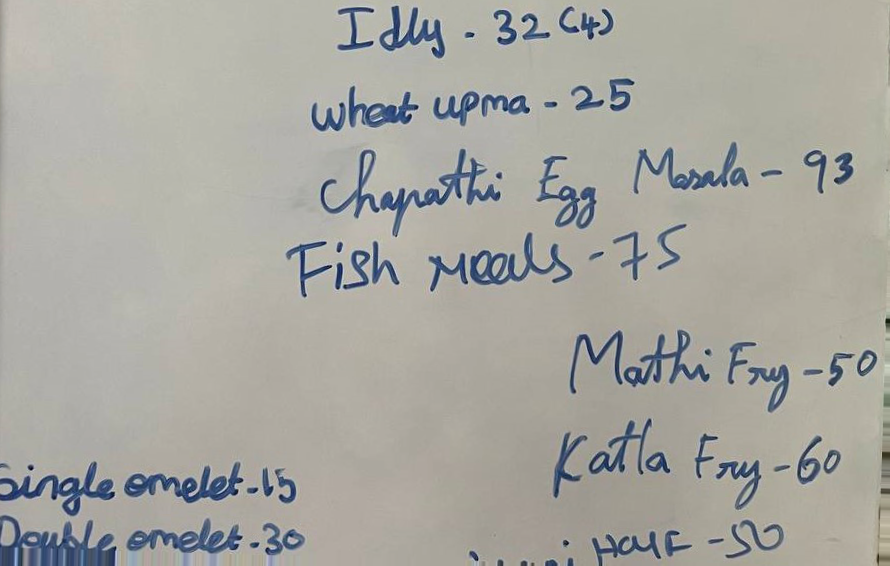chapathi egg masala - 93: (318, 147, 856, 222)
double omelet - 30: (1, 513, 308, 560)
fish Meals - 75: (283, 220, 695, 306)
idly(4) - 32: (331, 1, 618, 59)
katla fry - 60: (547, 418, 844, 506)
mathi fry - 50: (563, 325, 878, 411)
single omelet - 15: (1, 453, 302, 511)
wheat upma - 25: (302, 78, 640, 135)
